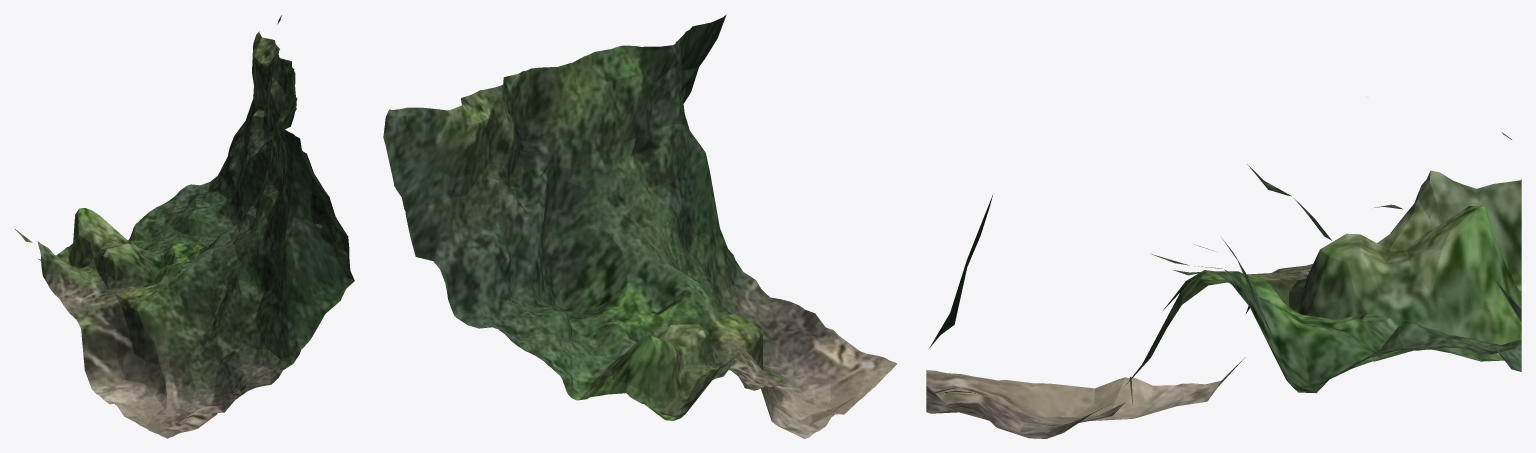
3 views of the same model, side by side, from view 1: azimuth 30°, elevation 25°; view 2: azimuth 150°, elevation 25°; view 3: azimuth 270°, elevation 25° (orthographic). The views are drawn at different scales.
Size of the model in its own units: 5.9 by 5.64 by 5.9.
Materials: 3 (3 with a texture image).
